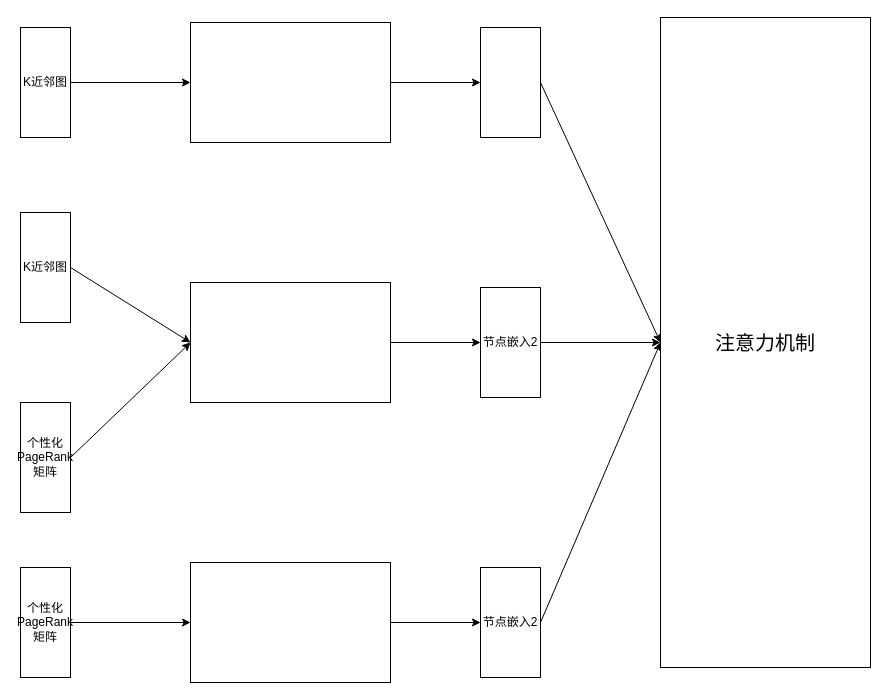
This 888x700 diagram has some shape labels left out. The shapes that lost their labels are listed below. From the top down, each one's centre as x and y in pixels, then its label:
At (x=290, y=82): "图卷积层1".
At (x=510, y=82): "节点嵌入1".
At (x=290, y=342): "图卷积层2".
At (x=290, y=622): "图卷积层3".
